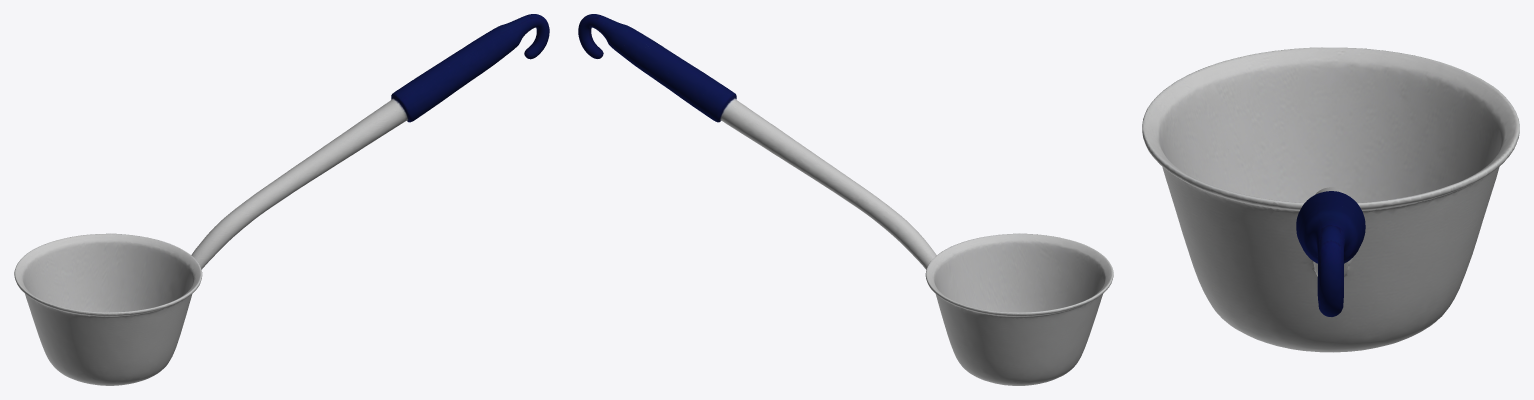
Rendered from Meshy_AI_일반국자_20261121_texture.fbx.
3 renders of one model, left to right at view 1: azimuth 30°, elevation 25°; view 2: azimuth 150°, elevation 25°; view 3: azimuth 270°, elevation 25°, orthographic. The views are drawn at different scales.
Visible parts, largest first — view 1: Mesh_0; view 2: Mesh_0; view 3: Mesh_0.
Part boxes in pixels (x1,y1,x2,y2): Mesh_0: [14, 14, 549, 385]; Mesh_0: [578, 14, 1113, 385]; Mesh_0: [1142, 47, 1519, 352].
Size of the model in its own units: 190 by 89.62 by 59.53.
1 material, 1 textured.
